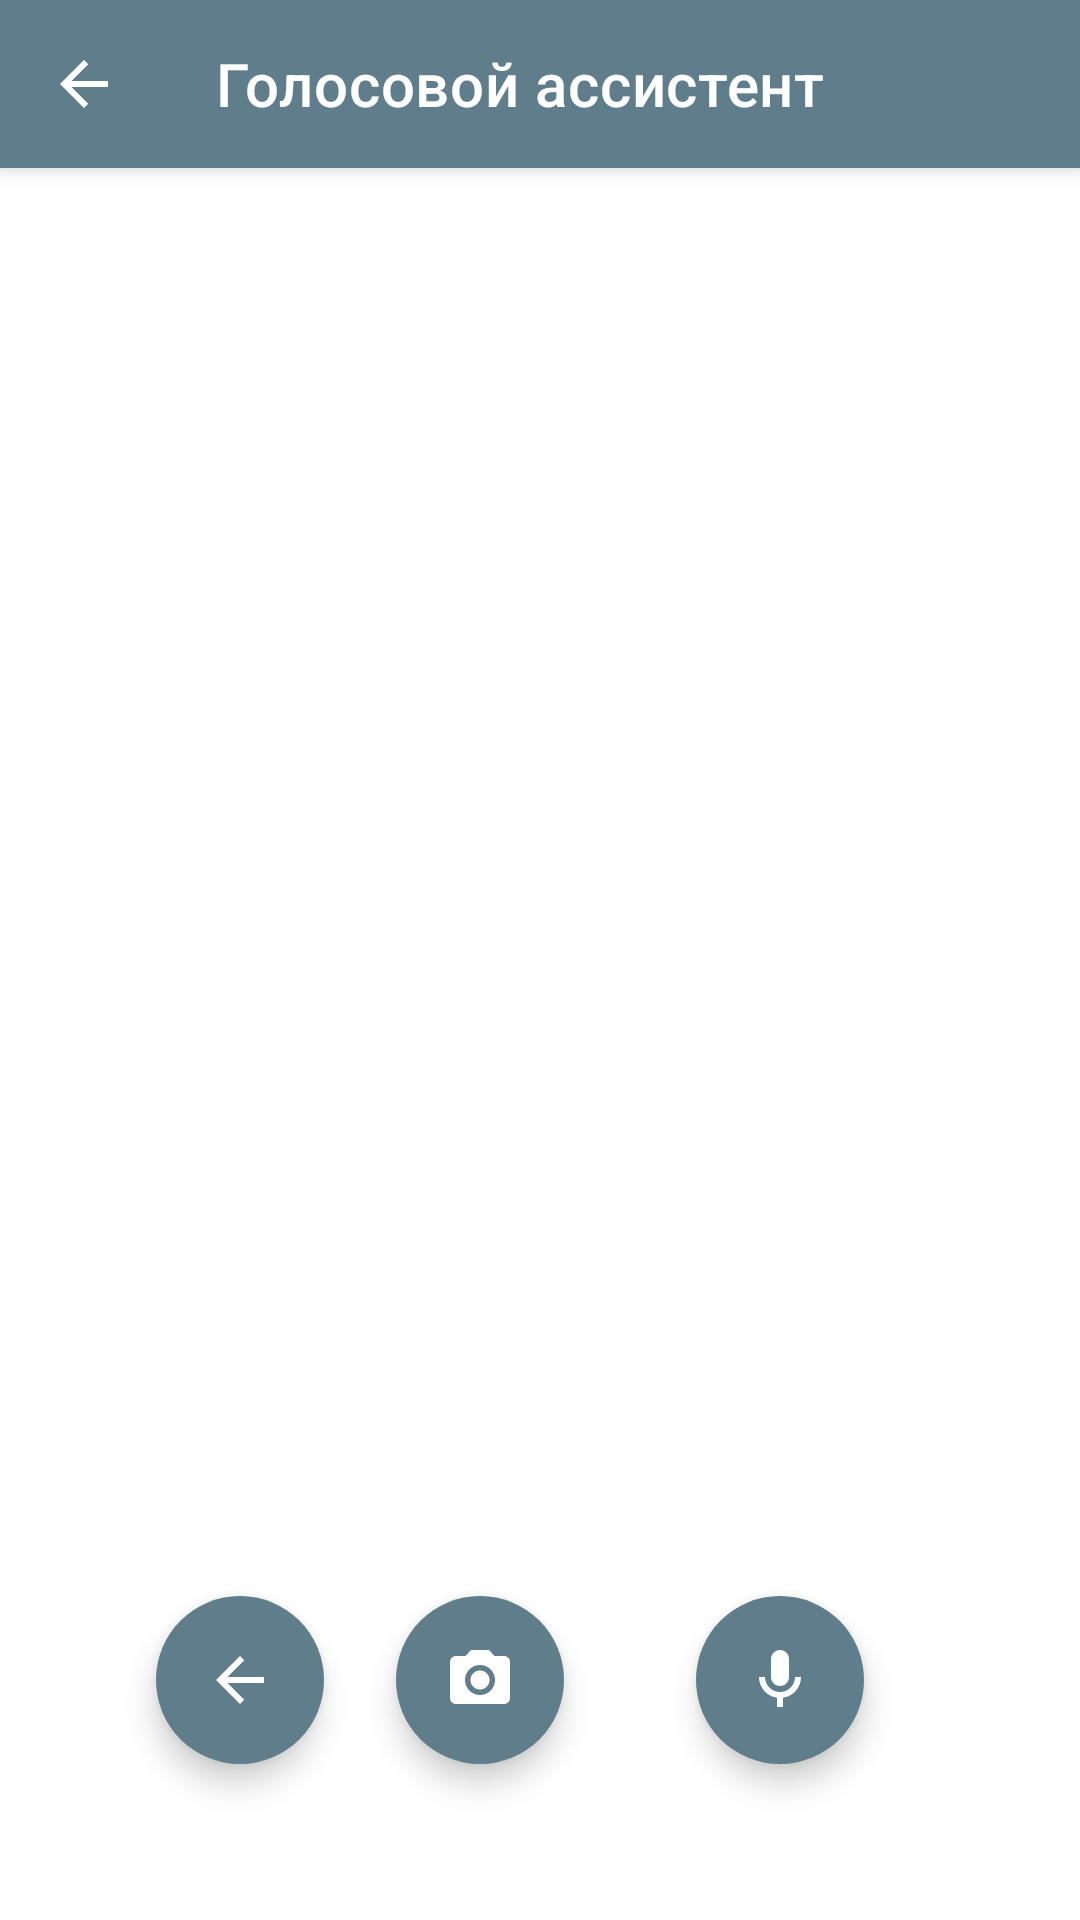

Screen size 1080×1920. Icon name, then its box in pixels as (x1, y1, x2, y2):
Open Camera: (396, 1596, 564, 1764)
Start Voice Input: (696, 1596, 864, 1764)
